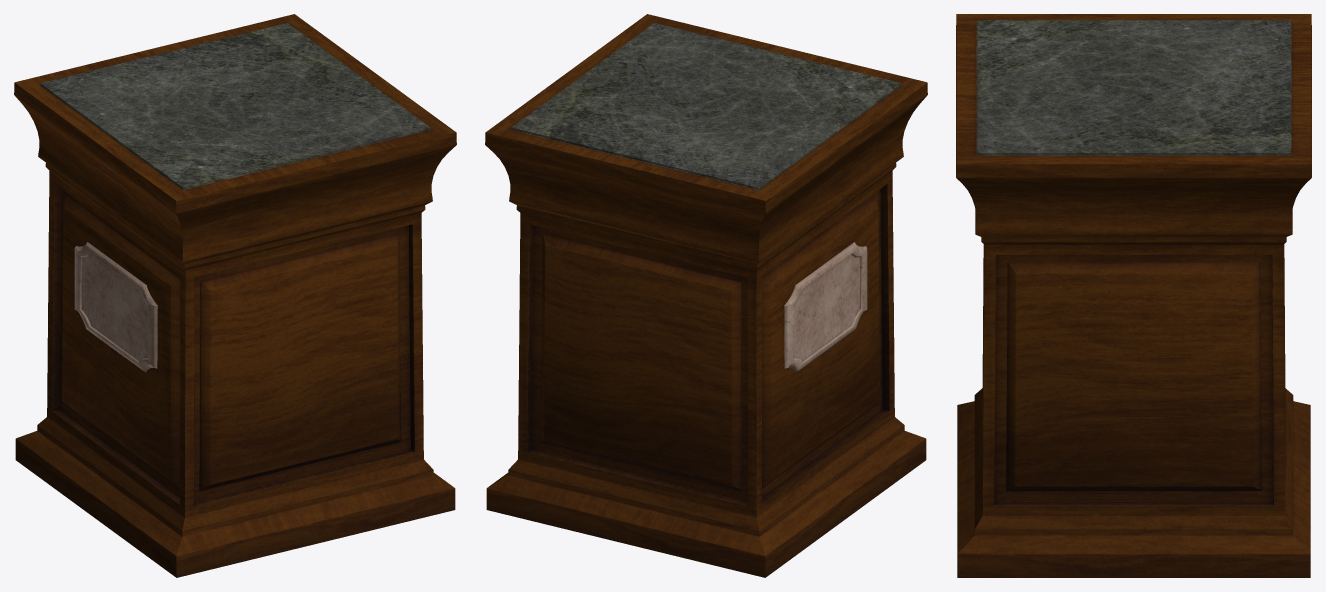
The model's file is MuseumPedestal02.fbx.
3 views of the same model, side by side, from view 1: azimuth 30°, elevation 25°; view 2: azimuth 150°, elevation 25°; view 3: azimuth 270°, elevation 25° (orthographic). The views are drawn at different scales.
Parts seen in each view (by area): view 1: MuseumPlinthe02; view 2: MuseumPlinthe02; view 3: MuseumPlinthe02.
Boxes of the visible parts, x1,y1,x2,y2 form: MuseumPlinthe02: [14, 14, 456, 577]; MuseumPlinthe02: [485, 14, 927, 577]; MuseumPlinthe02: [956, 14, 1311, 577].
Bounding box in the file's own units: 145 × 187 × 145.
